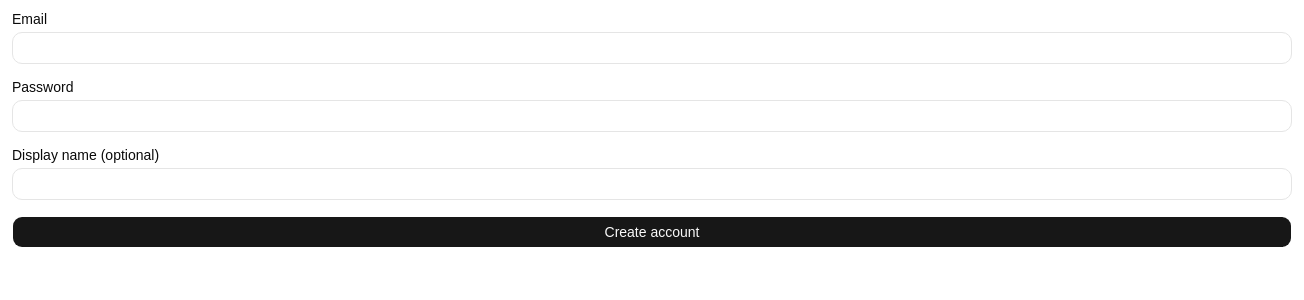
Test case: RegisterForm › shows a form-level message for a validation detail that names no form field
Step 1. Type "ada@example.com" into the field labelled "Email" → (652, 48), box [12, 32, 1292, 64]
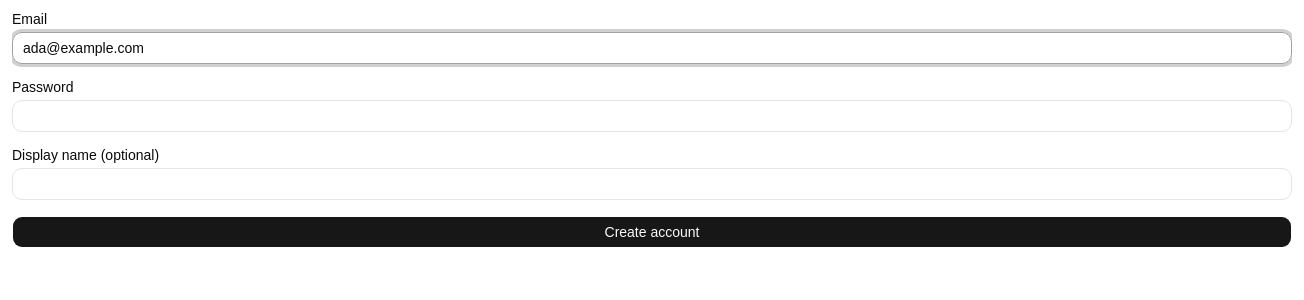
Step 2. Type "correct-horse-9" into the password field labelled "Password" → (652, 116), box [12, 100, 1292, 132]
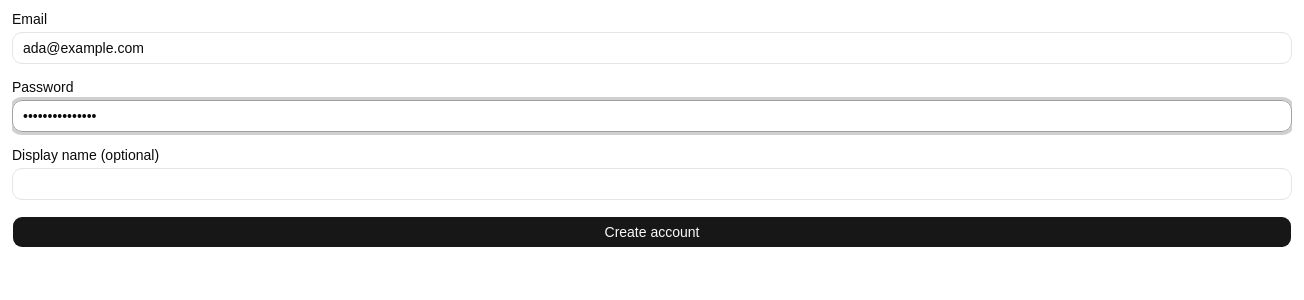
Step 3. Click the button "Create account" → click(652, 232), box [12, 216, 1292, 248]
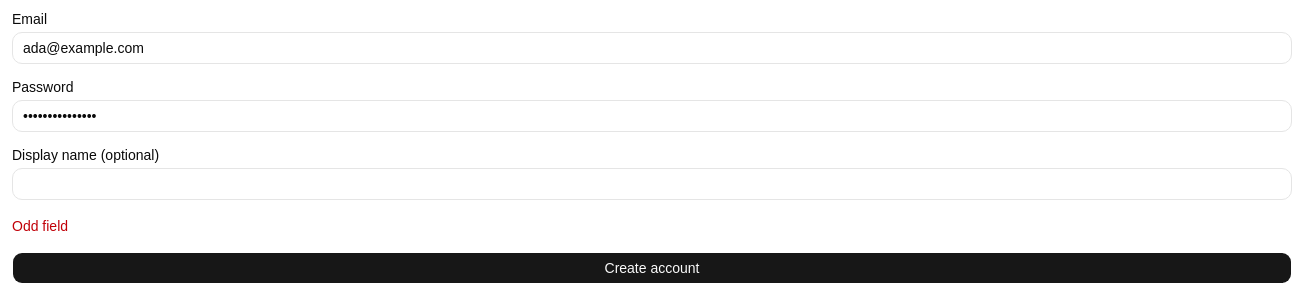
Expected: the message reads "Odd field", [12, 218, 68, 234]
